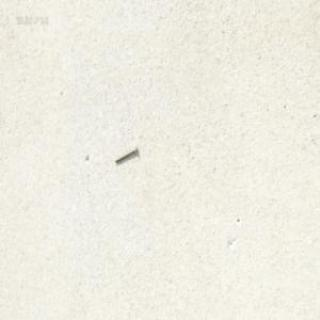Bolttrack_idkeyframe: (114, 144, 136, 163)
